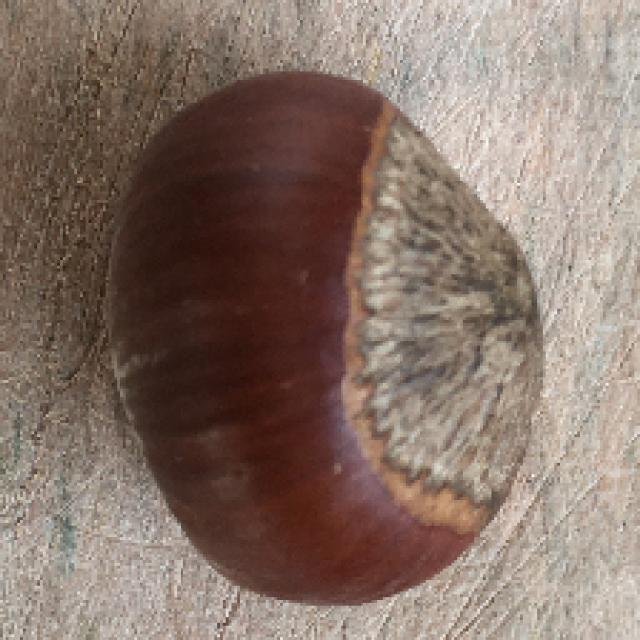damagedHazelnut: (93, 70, 545, 600)
